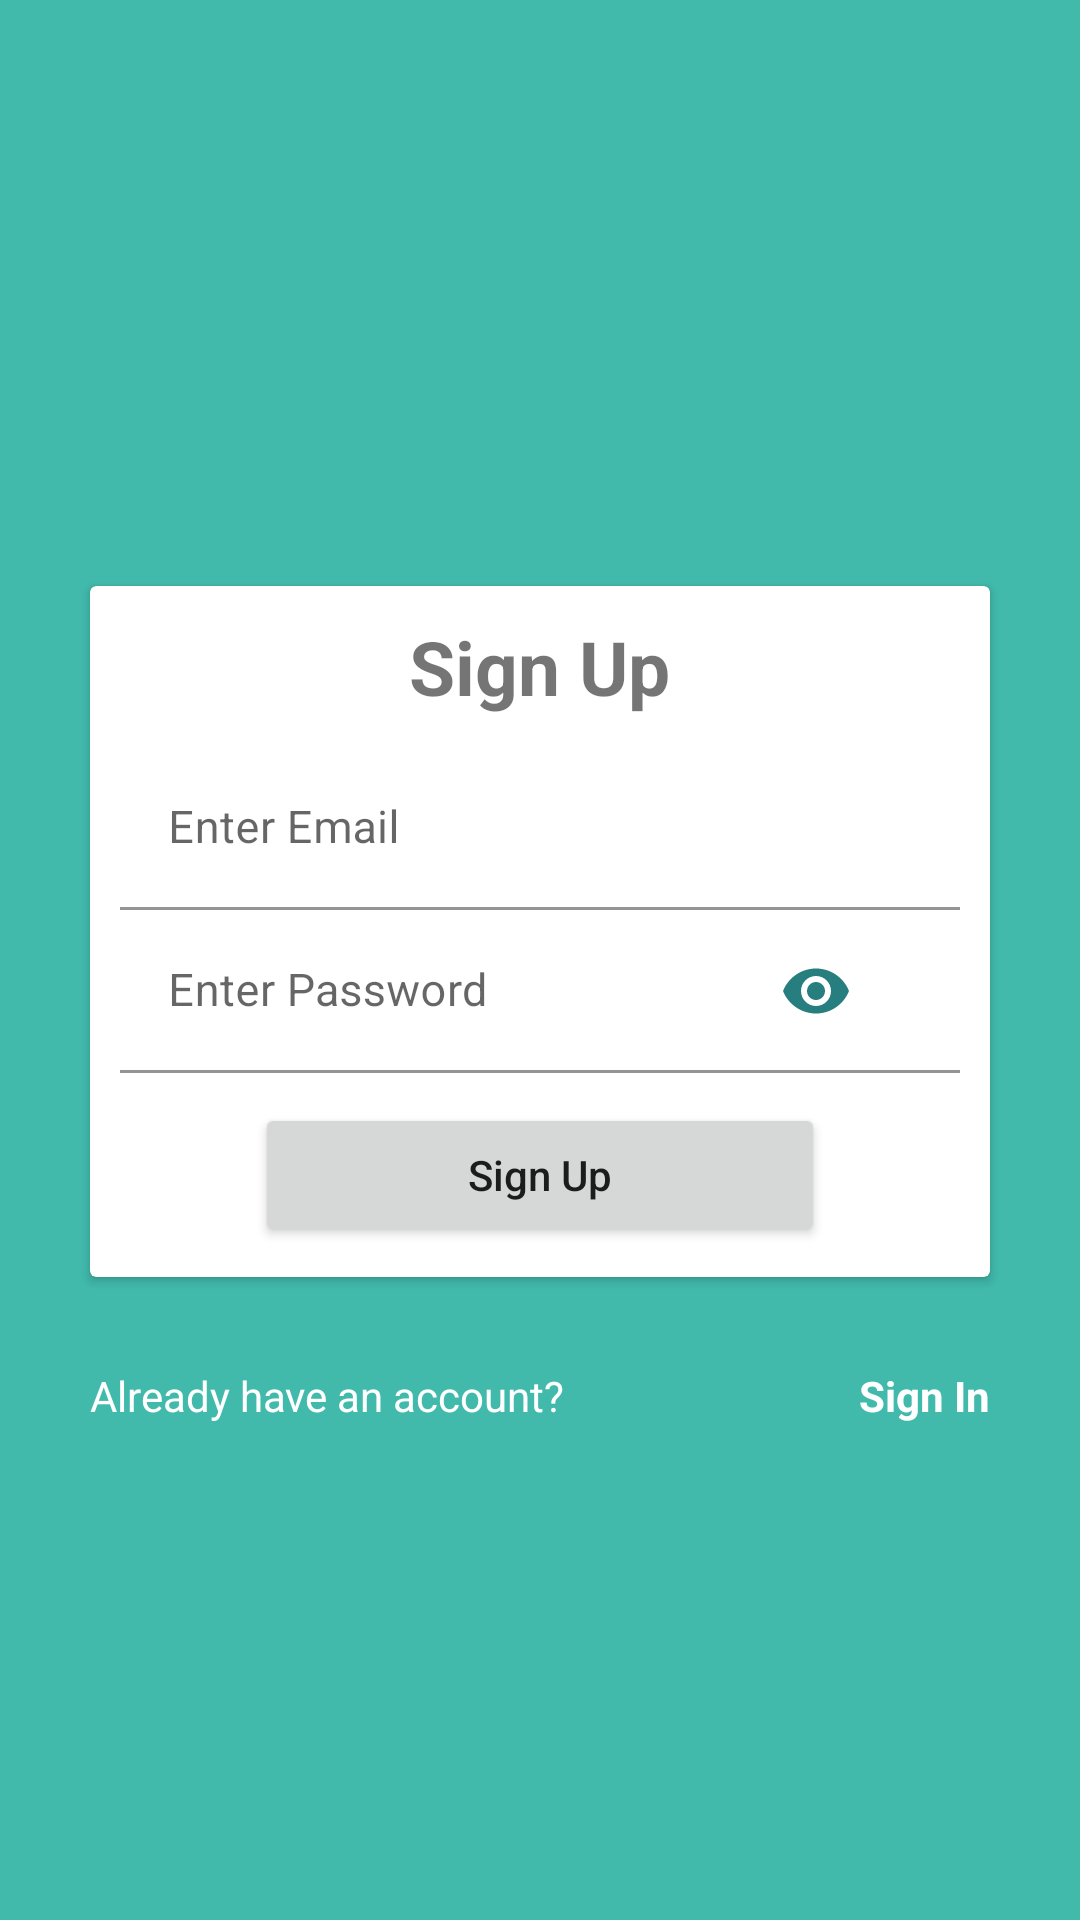

Screen size 1080×1920. Icon name, then its box in pixels as (x1, y1, x2, y2):
eye: (783, 968, 849, 1014)
